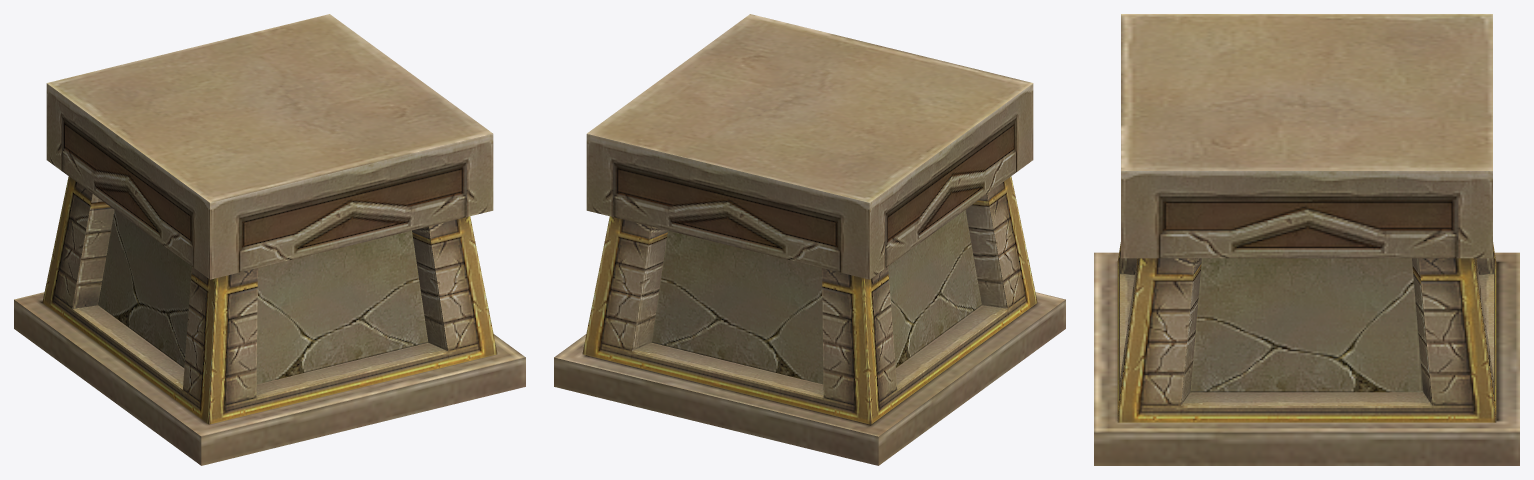
Rendered from Table02_Maincity_001.FBX.
The picture shows the model from 3 angles, left to right: view 1: azimuth 30°, elevation 25°; view 2: azimuth 150°, elevation 25°; view 3: azimuth 270°, elevation 25°; orthographic projection. The views are drawn at different scales.
Parts seen in each view (by area): view 1: Table02_Maincity_001; view 2: Table02_Maincity_001; view 3: Table02_Maincity_001.
Part boxes in pixels (x1=…): Table02_Maincity_001: x1=14, y1=14, x2=525, y2=465; Table02_Maincity_001: x1=554, y1=14, x2=1065, y2=465; Table02_Maincity_001: x1=1094, y1=14, x2=1519, y2=465.
Size of the model in its own units: 208 by 153 by 208.
